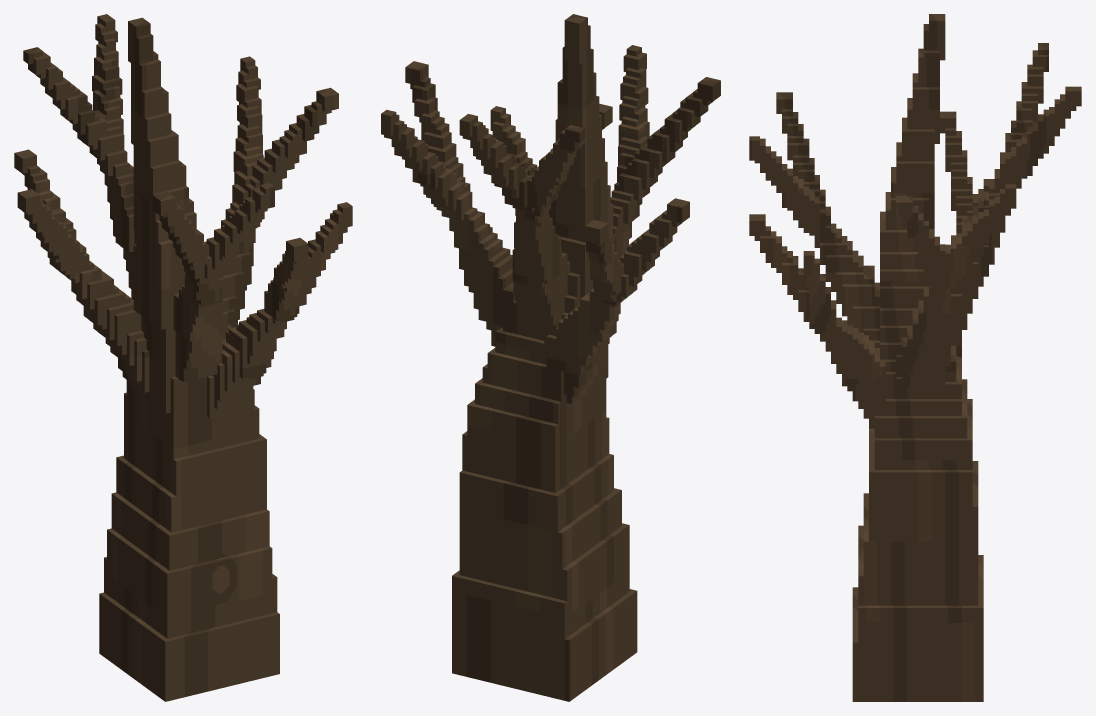
File: oak_mature_winter_3.glb
3 views of the same model, side by side, from view 1: azimuth 30°, elevation 25°; view 2: azimuth 150°, elevation 25°; view 3: azimuth 270°, elevation 25° (orthographic). The views are drawn at different scales.
Parts seen in each view (by area): view 1: VoxelVisual; view 2: VoxelVisual; view 3: VoxelVisual.
Part boxes in pixels (x1=…): VoxelVisual: x1=14, y1=14, x2=352, y2=701; VoxelVisual: x1=381, y1=14, x2=720, y2=701; VoxelVisual: x1=749, y1=14, x2=1081, y2=701.
Size of what is drawn, in the model's own units: 7.62 by 16.12 by 7.62.
